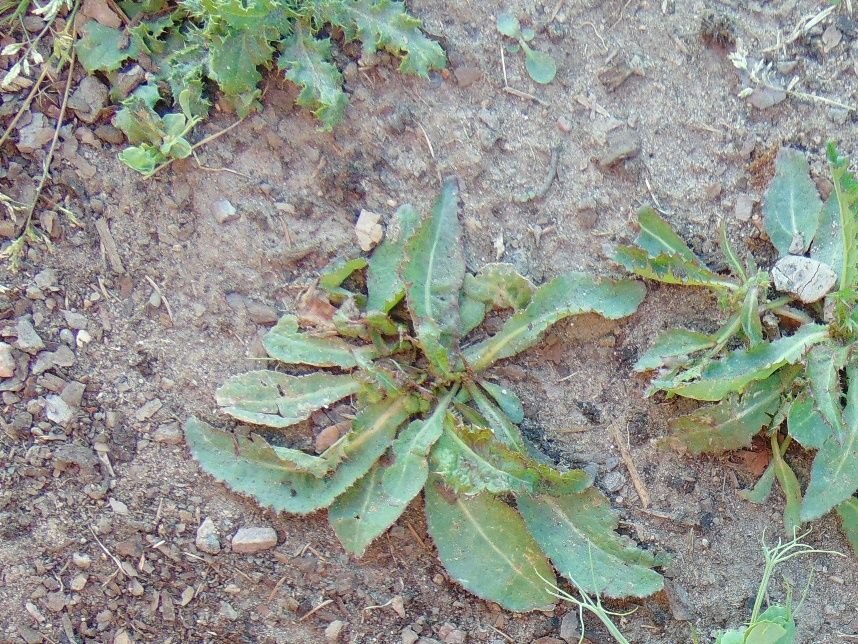crop: (709, 530, 827, 644), (114, 87, 205, 175), (562, 560, 644, 644)
weed: (182, 208, 668, 593), (626, 151, 858, 545), (108, 1, 451, 123), (497, 11, 558, 85)
